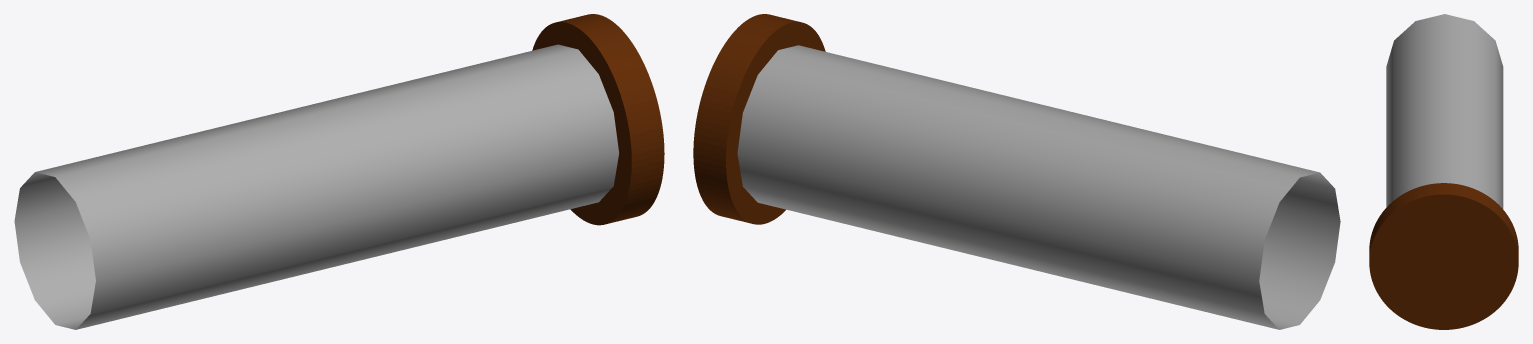
Rendered from PipesStraight.glb.
3 views of the same model, side by side, from view 1: azimuth 30°, elevation 25°; view 2: azimuth 150°, elevation 25°; view 3: azimuth 270°, elevation 25° (orthographic). The views are drawn at different scales.
Visible parts, largest first — view 1: NurbsPath, Cylinder.001; view 2: NurbsPath, Cylinder.001; view 3: NurbsPath, Cylinder.001.
Boxes of the visible parts, bbox=[...] form: NurbsPath: bbox=[14, 44, 619, 329]; Cylinder.001: bbox=[532, 14, 664, 225]; NurbsPath: bbox=[737, 45, 1340, 329]; Cylinder.001: bbox=[693, 14, 825, 224]; NurbsPath: bbox=[1386, 14, 1503, 208]; Cylinder.001: bbox=[1369, 183, 1518, 329].
Size of the model in its own units: 4.26 by 1.38 by 1.38.
